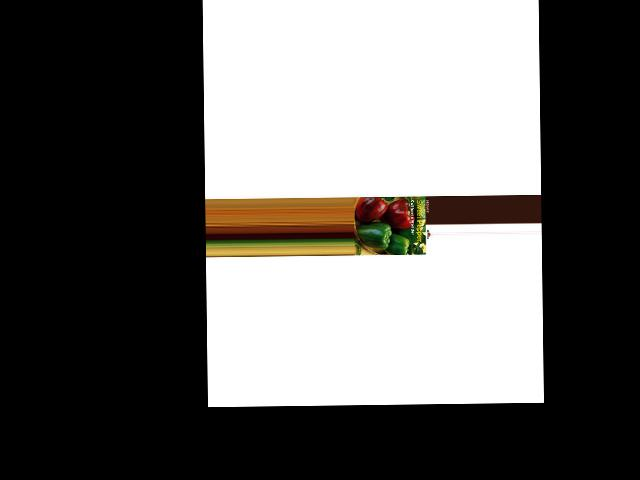bell_pepper: (380, 235, 411, 256)
